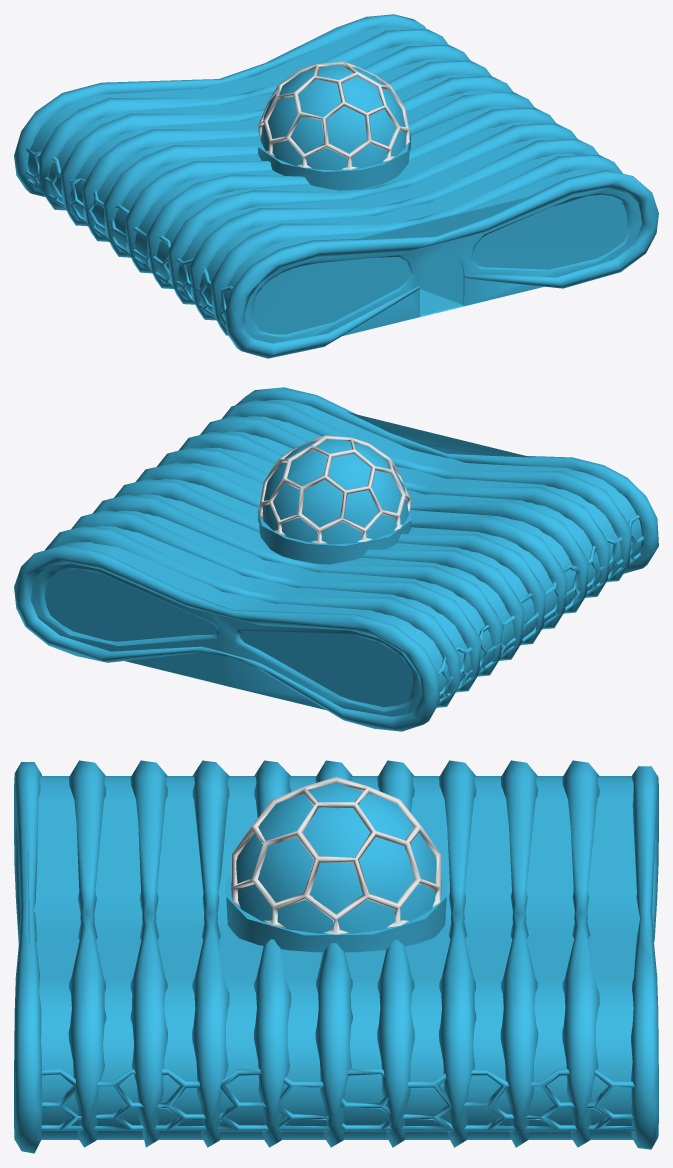
The model's file is Hologram-building.fbx.
3 renders of one model, top to bottom at view 1: azimuth 30°, elevation 25°; view 2: azimuth 150°, elevation 25°; view 3: azimuth 270°, elevation 25°, orthographic. The views are drawn at different scales.
Parts seen in each view (by area): view 1: Exterior, Spines.001, Spine Front.001, Dome glass, Dome wireframe hexagons, HoneyComb; view 2: Exterior, Spines.001, Spine Front.001, Dome glass, Dome wireframe hexagons, HoneyComb; view 3: Exterior, Spines.001, Dome glass, Spine Front.001, HoneyComb, Dome wireframe hexagons.
Part boxes in pixels (x1,y1,x2,y2): Exterior: (28,25,642,343); Spines.001: (39,29,622,335); Spine Front.001: (14,14,658,358); Dome glass: (258,65,410,190); Dome wireframe hexagons: (258,61,409,169); HoneyComb: (25,148,233,326); Exterior: (31,400,641,716); Spines.001: (44,400,631,707); Spine Front.001: (14,387,658,731); Dome glass: (258,439,411,564); Dome wireframe hexagons: (259,435,410,543); HoneyComb: (437,514,644,704); Exterior: (28,776,639,1139); Spines.001: (68,760,599,1147); Dome glass: (226,782,446,952); Spine Front.001: (14,762,658,1153); HoneyComb: (40,1069,635,1131); Dome wireframe hexagons: (232,777,440,934).
Size of the model in its own units: 3003 by 1121 by 2718.
